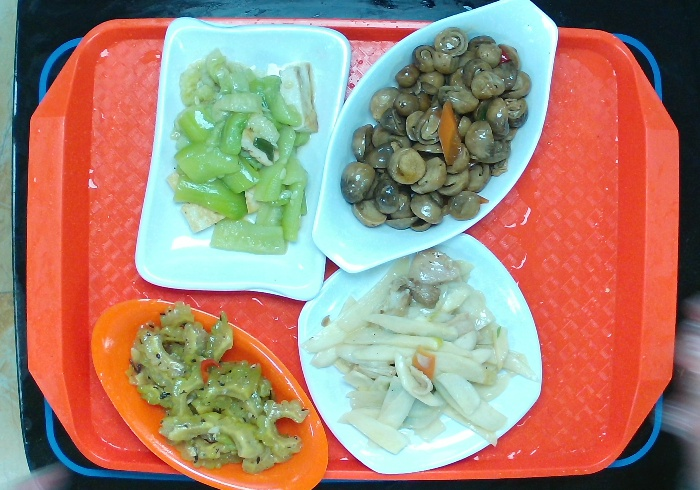RJxy-Ju_Huang_Tuo_Yuan: (91, 295, 328, 490)
RJxy-Si_Fang_Ao_Bian_Wan: (132, 1, 343, 313)
RJxy-Si_Fang_Die: (296, 223, 544, 472)
RJxy-Yu_Pan: (310, 1, 564, 276)
